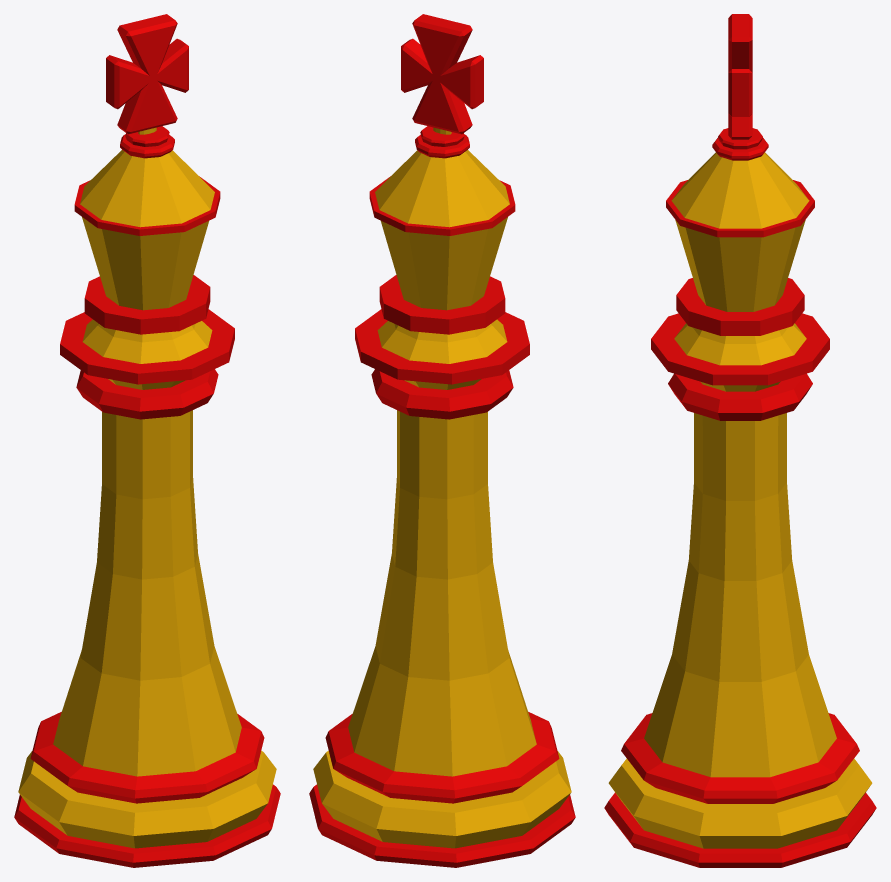
File: King.fbx
3 renders of one model, left to right at view 1: azimuth 30°, elevation 25°; view 2: azimuth 150°, elevation 25°; view 3: azimuth 270°, elevation 25°, orthographic.
Visible parts, largest first — view 1: KingLow; view 2: KingLow; view 3: KingLow.
Part boxes in pixels (x1,y1,x2,y2): KingLow: (14, 14, 280, 867); KingLow: (309, 14, 575, 867); KingLow: (604, 14, 876, 867).
Size of the model in its own units: 0.8345 by 2.8 by 0.8774.
